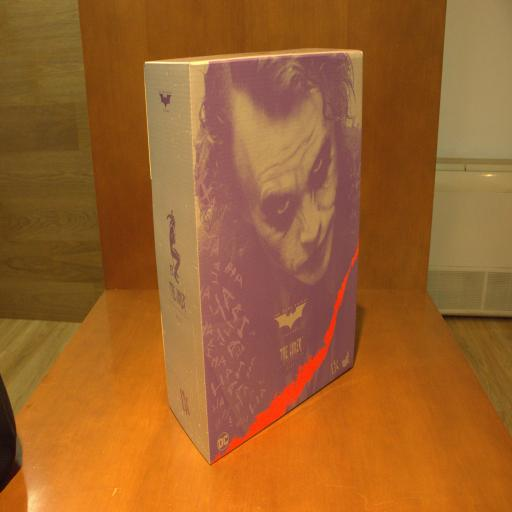Joker: (143, 45, 365, 464)
